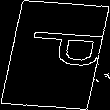P_E: (7, 33, 103, 77)
